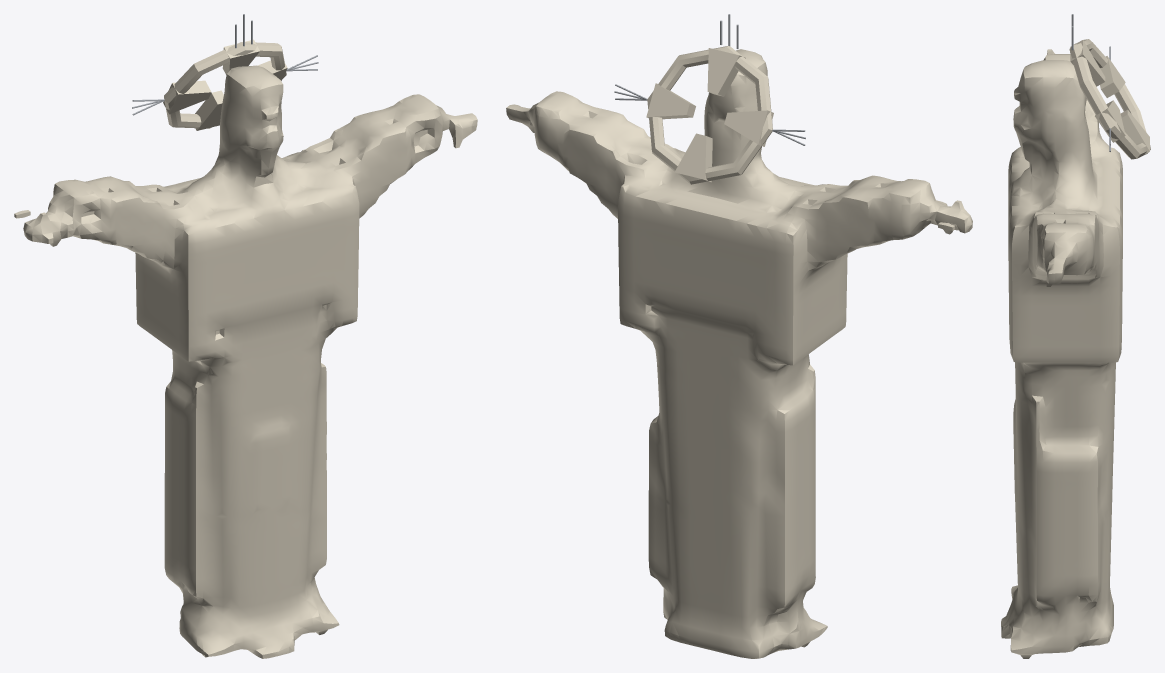
3 views of the same model, side by side, from view 1: azimuth 30°, elevation 25°; view 2: azimuth 150°, elevation 25°; view 3: azimuth 270°, elevation 25° (orthographic). The views are drawn at different scales.
Parts seen in each view (by area): view 1: tuong_chua_kito_vua; view 2: tuong_chua_kito_vua; view 3: tuong_chua_kito_vua.
Boxes of the visible parts, left/top/right/bottom form: tuong_chua_kito_vua: left=14, top=14, right=477, bottom=658; tuong_chua_kito_vua: left=506, top=14, right=972, bottom=658; tuong_chua_kito_vua: left=1001, top=14, right=1150, bottom=658.
Size of the model in its own units: 22.55 by 29.43 by 6.47.
